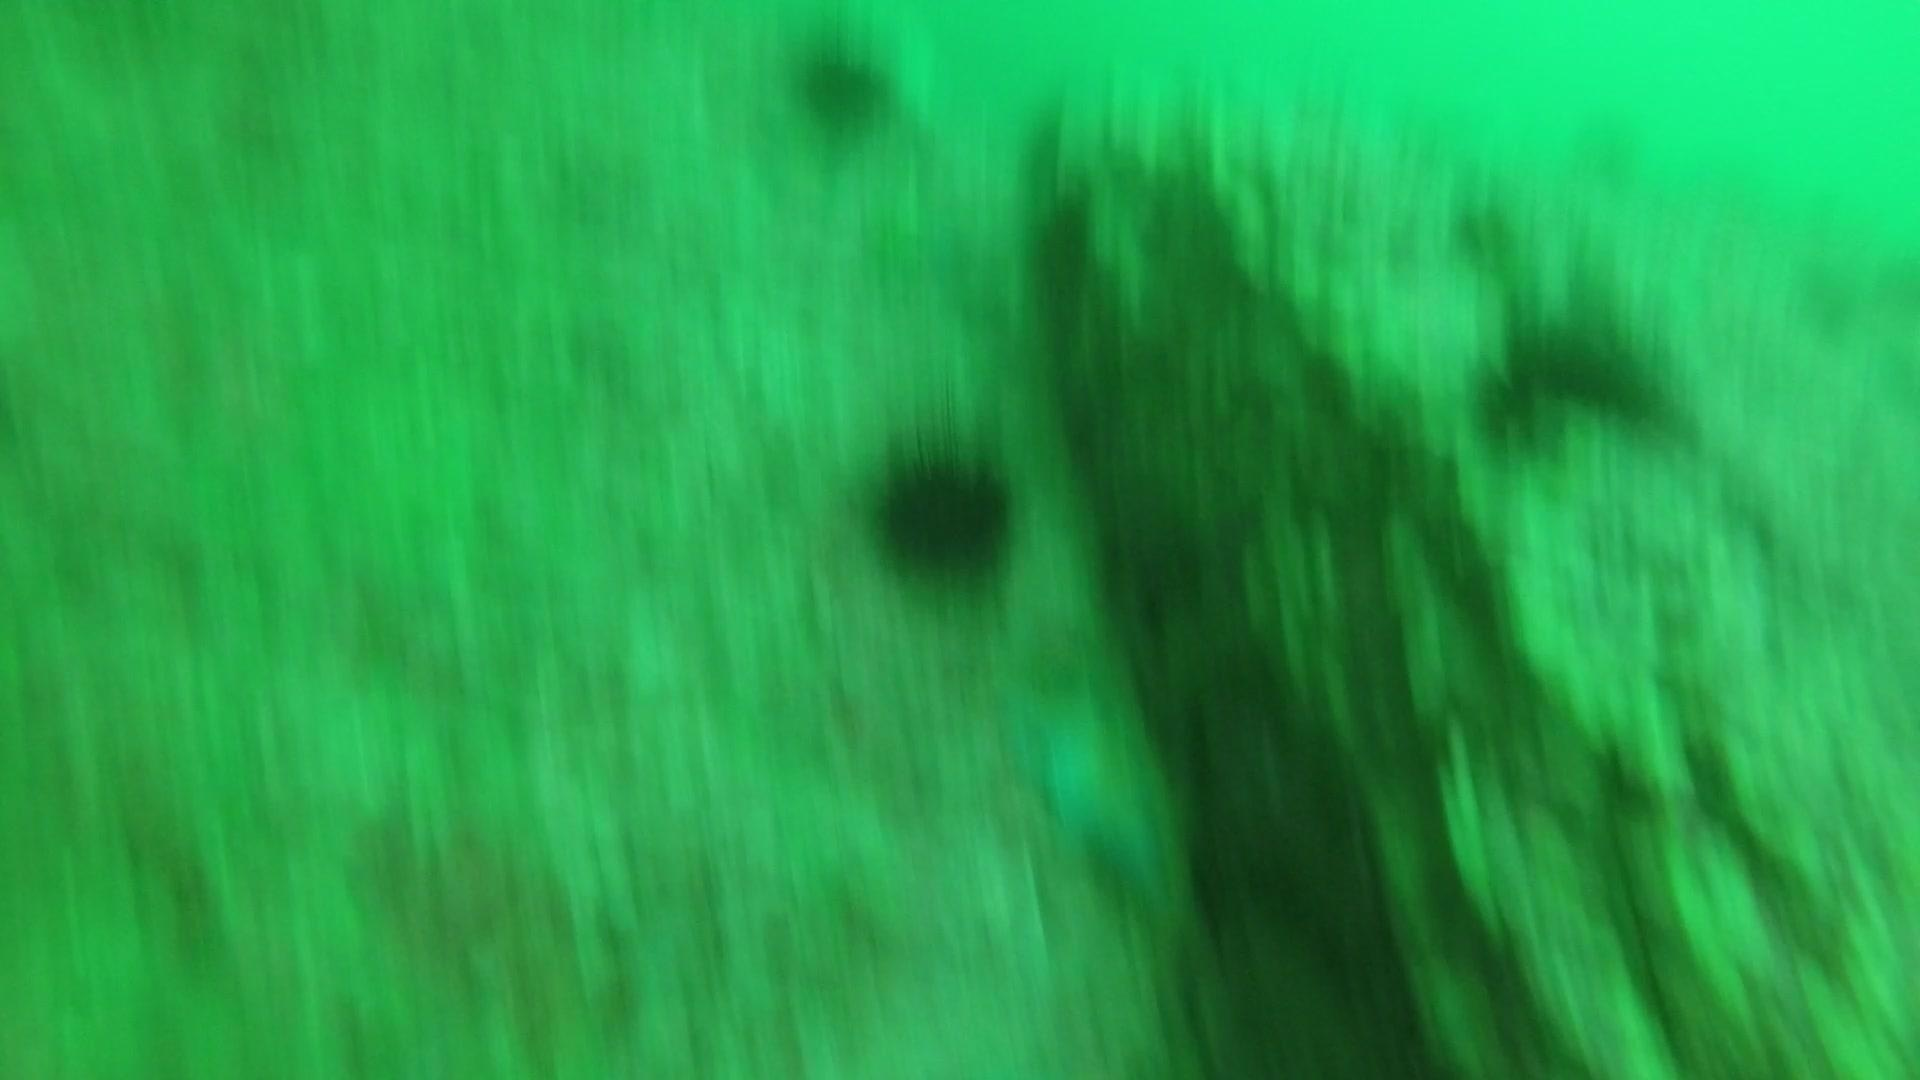echinus: (1468, 303, 1681, 443), (858, 426, 1027, 585), (785, 32, 903, 142)
starfish: (1002, 682, 1197, 910)
